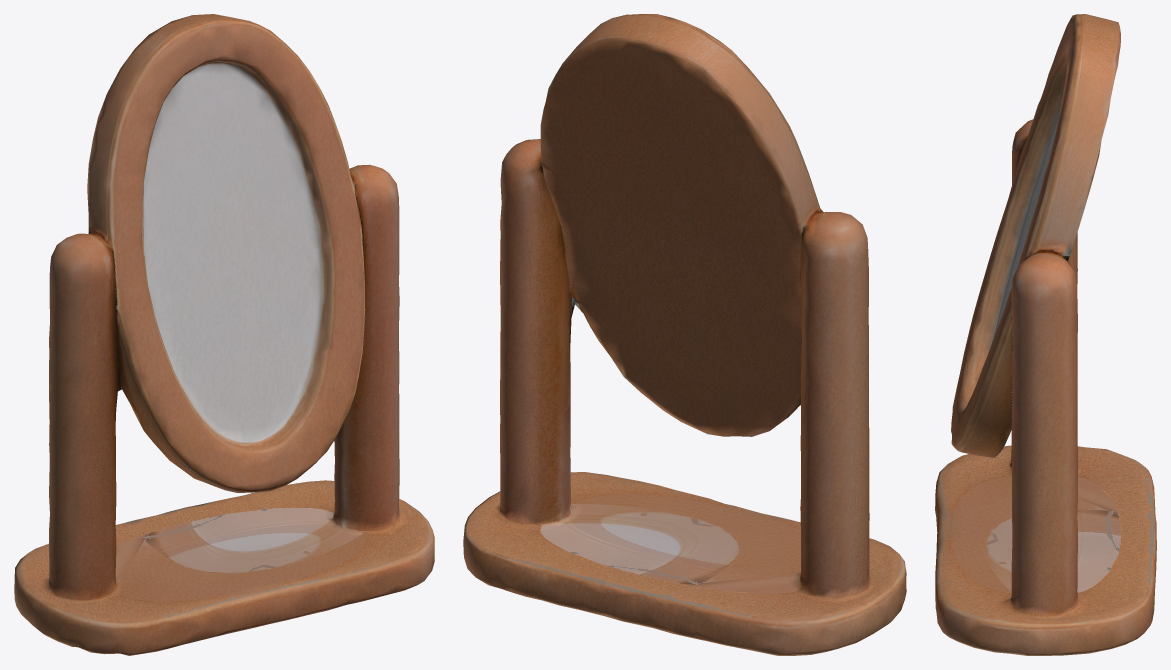
File: Prop_MirrorFrame.glb
The picture shows the model from 3 angles, left to right: view 1: azimuth 30°, elevation 25°; view 2: azimuth 150°, elevation 25°; view 3: azimuth 270°, elevation 25°; orthographic projection. The views are drawn at different scales.
Parts seen in each view (by area): view 1: input; view 2: input; view 3: input.
Part boxes in pixels (x1=…): input: x1=14, y1=14, x2=434, y2=655; input: x1=463, y1=14, x2=906, y2=655; input: x1=935, y1=14, x2=1156, y2=655.
Size of the model in its own units: 0.732 by 1 by 0.372.
1 material, 1 textured.
